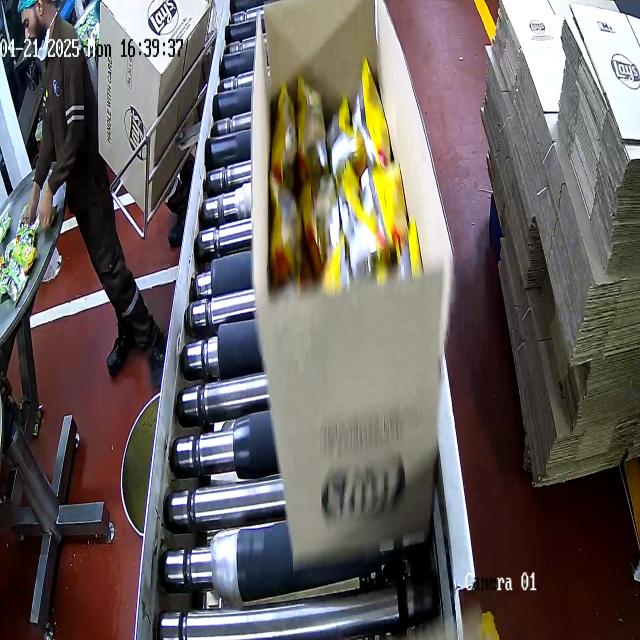SALTED: (269, 59, 406, 291)
